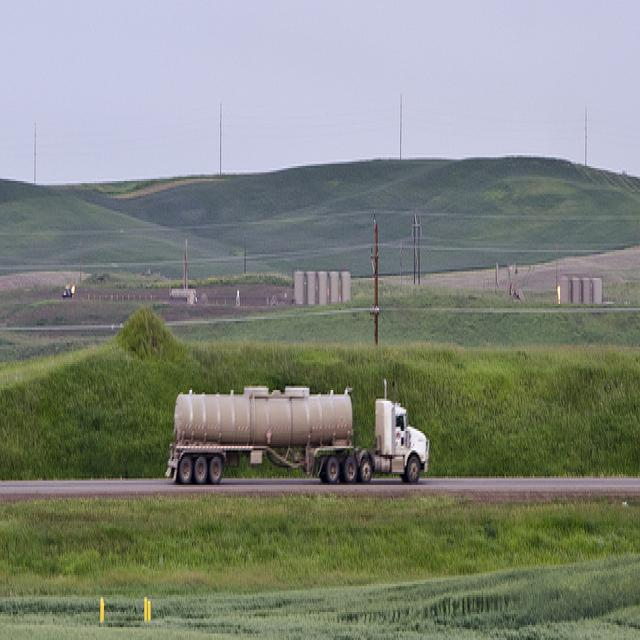Vehicle: (168, 381, 429, 486)
